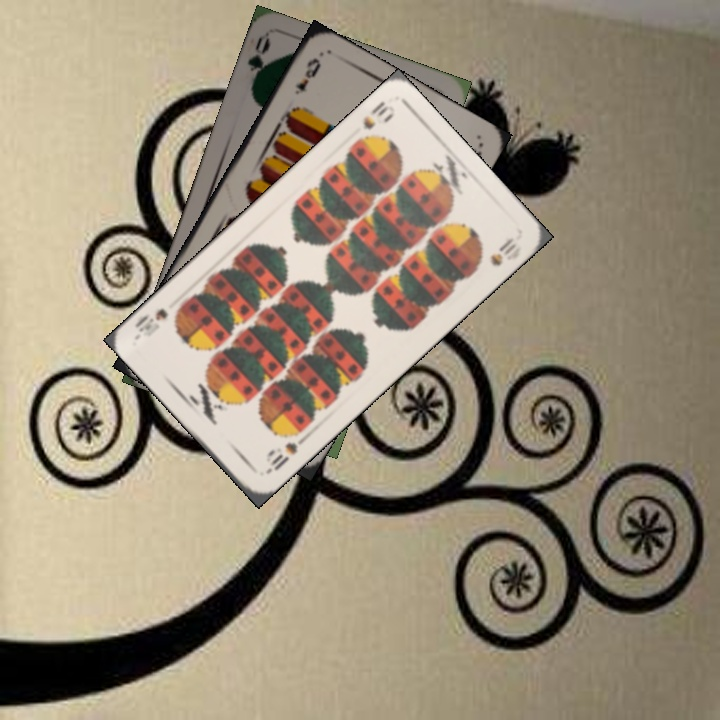E9: (290, 53, 324, 97)
GO: (243, 32, 274, 92)
S10: (351, 96, 398, 146), (261, 432, 309, 478)
